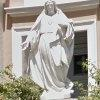Statue: (13, 5, 91, 93)
